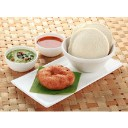idly: (71, 29, 108, 58)
